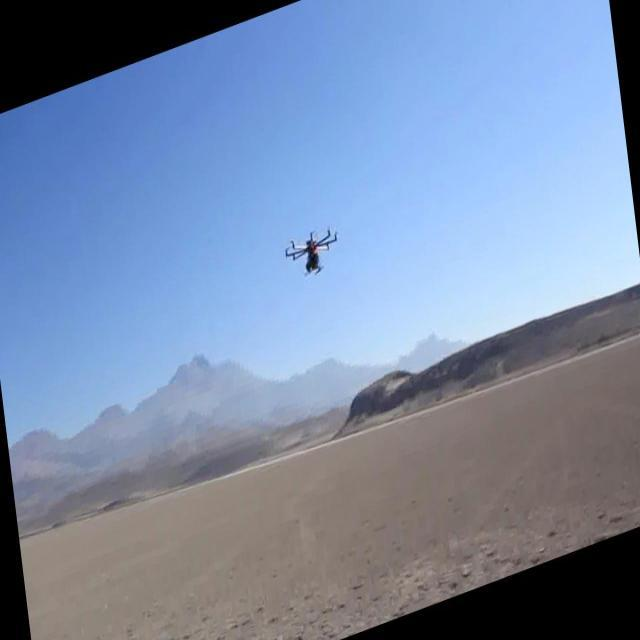drone: (282, 218, 342, 289)
